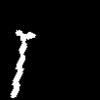half_double_crochet: (11, 30, 35, 97)
